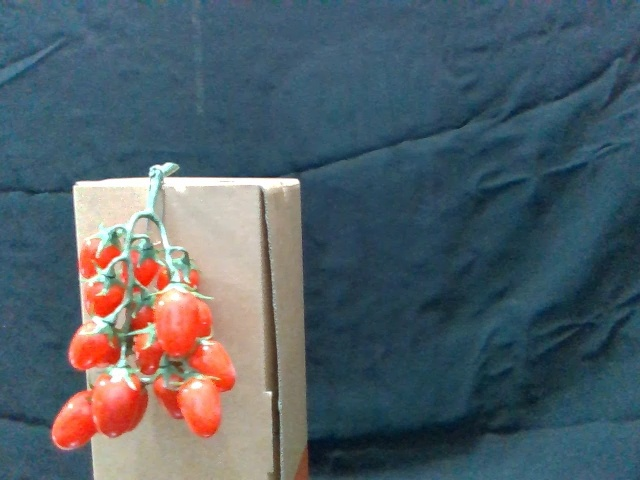tomato: (95, 363, 148, 438), (156, 284, 203, 360), (180, 369, 225, 442), (51, 392, 99, 448), (68, 320, 118, 371), (191, 342, 236, 392), (82, 273, 127, 320), (78, 230, 121, 277), (127, 322, 165, 375), (154, 370, 189, 421)
